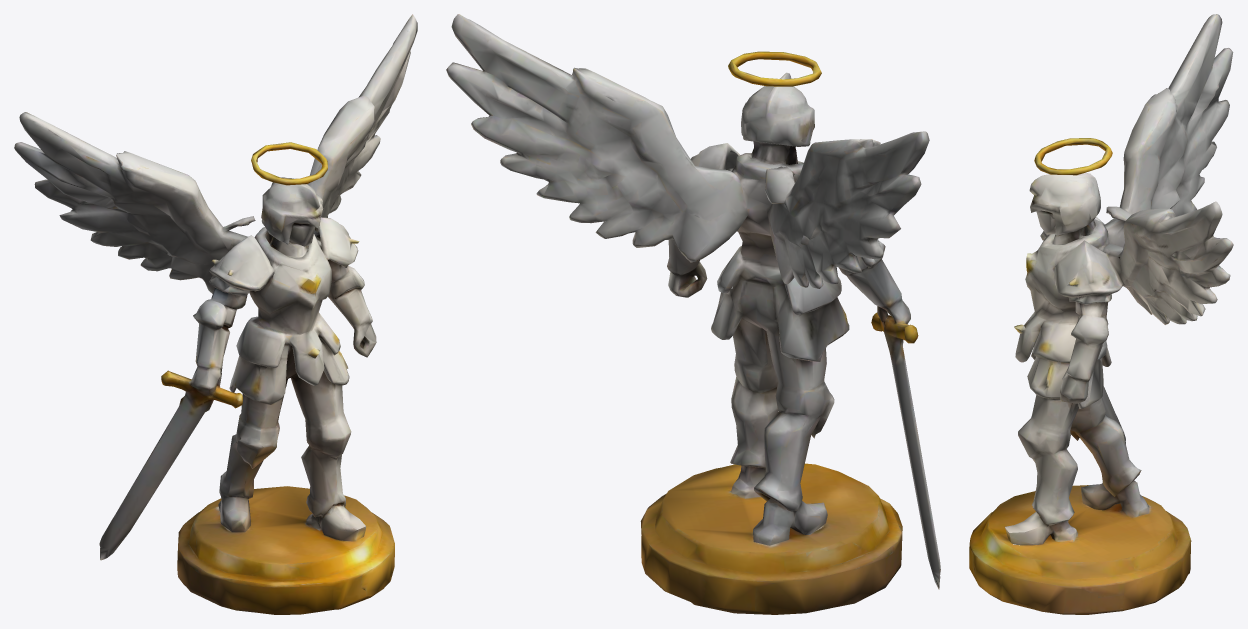
Rendered from angelstatue.glb.
The picture shows the model from 3 angles, left to right: view 1: azimuth 30°, elevation 25°; view 2: azimuth 150°, elevation 25°; view 3: azimuth 270°, elevation 25°; orthographic projection. The views are drawn at different scales.
Parts seen in each view (by area): view 1: tripo_node_2f7e6141; view 2: tripo_node_2f7e6141; view 3: tripo_node_2f7e6141.
Part boxes in pixels (box(x1,y1,x2,y2)): tripo_node_2f7e6141: box(14, 14, 417, 614); tripo_node_2f7e6141: box(446, 14, 940, 614); tripo_node_2f7e6141: box(969, 14, 1233, 614).
Size of the model in its own units: 90.75 by 100 by 51.77.
Materials: 1 (1 with a texture image).
